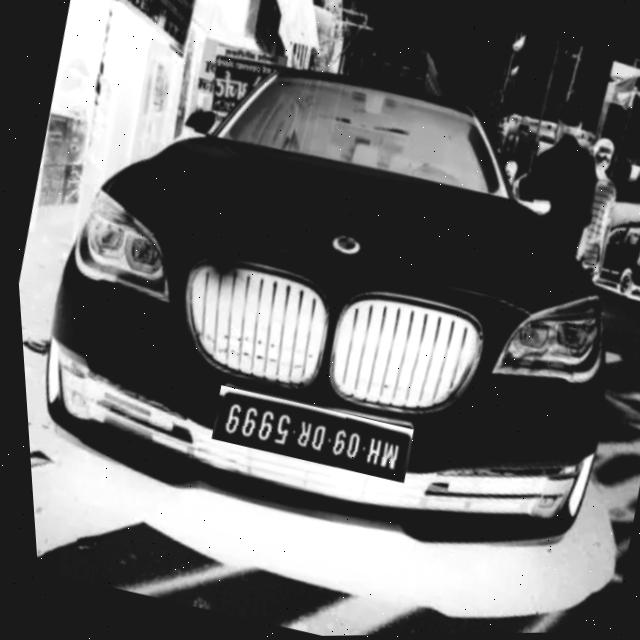Non_registered: (202, 383, 410, 486)
